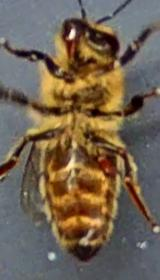varroa_mite: (91, 150, 118, 180)
